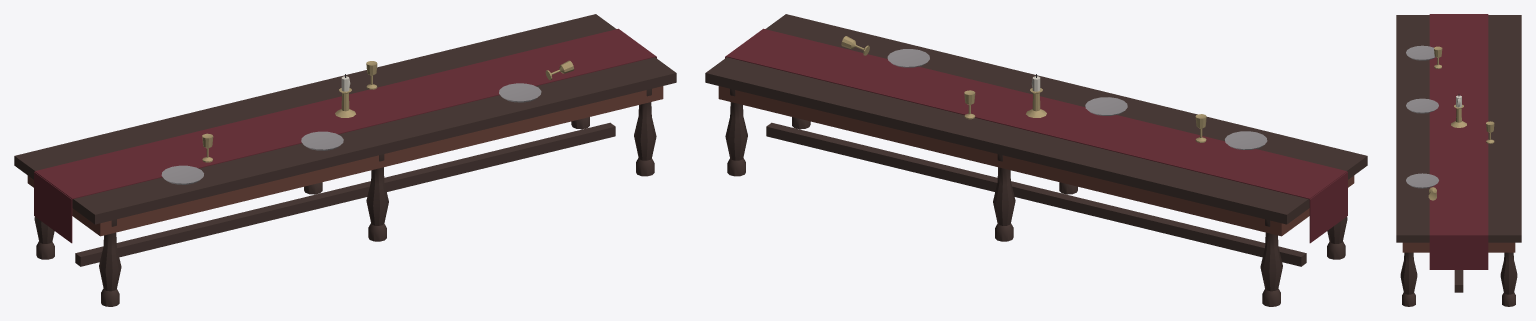
The model's file is table_long.glb.
3 renders of one model, left to right at view 1: azimuth 30°, elevation 25°; view 2: azimuth 150°, elevation 25°; view 3: azimuth 270°, elevation 25°, orthographic. The views are drawn at different scales.
Parts seen in each view (by area): view 1: TableLong; view 2: TableLong; view 3: TableLong.
Part boxes in pixels (bbox=[...]): TableLong: bbox=[14, 14, 676, 306]; TableLong: bbox=[705, 14, 1367, 306]; TableLong: bbox=[1396, 14, 1521, 306].
Bounding box in the file's own units: 5.03 × 1.15 × 1.2.
